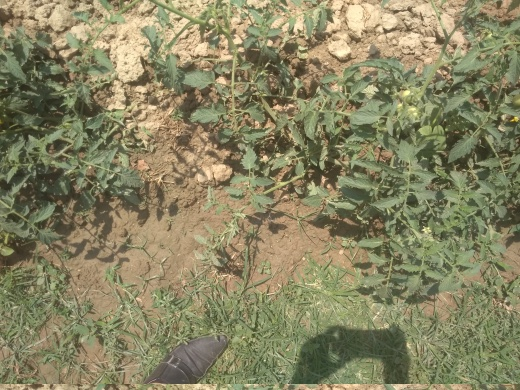tomato flower: (392, 81, 419, 129)
tomato plant: (294, 85, 520, 233), (1, 45, 85, 222)
